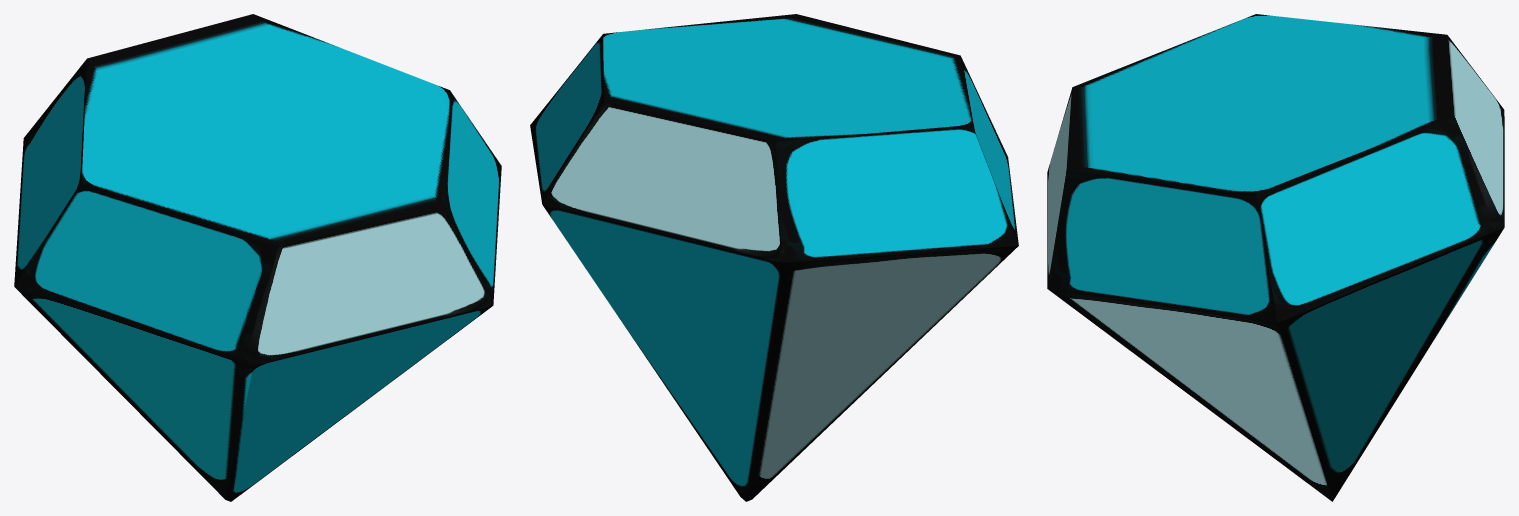
Rendered from item_houseki1.fbx.
3 views of the same model, side by side, from view 1: azimuth 30°, elevation 25°; view 2: azimuth 150°, elevation 25°; view 3: azimuth 270°, elevation 25° (orthographic).
Visible parts, largest first — view 1: diya1; view 2: diya1; view 3: diya1.
Part boxes in pixels (box(x1,y1,x2,y2)): diya1: box(14, 14, 501, 501); diya1: box(530, 14, 1018, 501); diya1: box(1047, 14, 1504, 501).
Size of the model in its own units: 79.2 by 65.78 by 64.04.
